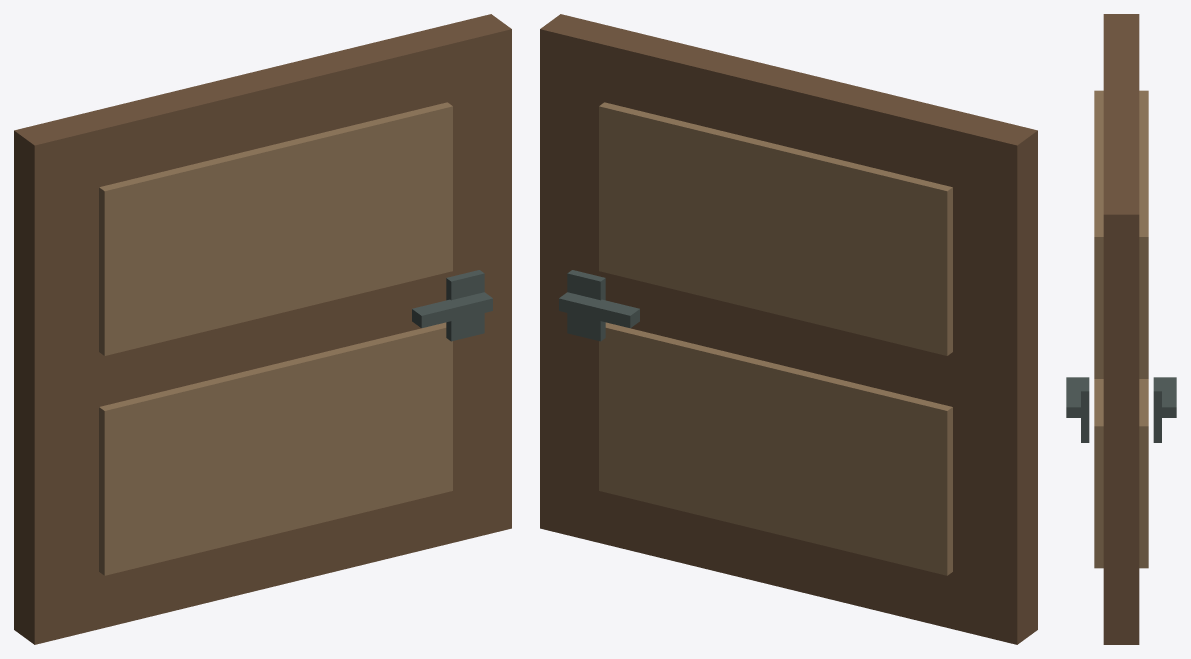
File: home_door.glb
3 renders of one model, left to right at view 1: azimuth 30°, elevation 25°; view 2: azimuth 150°, elevation 25°; view 3: azimuth 270°, elevation 25°, orthographic. The views are drawn at different scales.
Visible parts, largest first — view 1: home_door; view 2: home_door; view 3: home_door.
Part boxes in pixels (left/top/right/bottom): home_door: left=14, top=14, right=511, bottom=644; home_door: left=540, top=14, right=1037, bottom=644; home_door: left=1066, top=14, right=1176, bottom=644.
Size of the model in its own units: 1 by 1 by 0.233.
